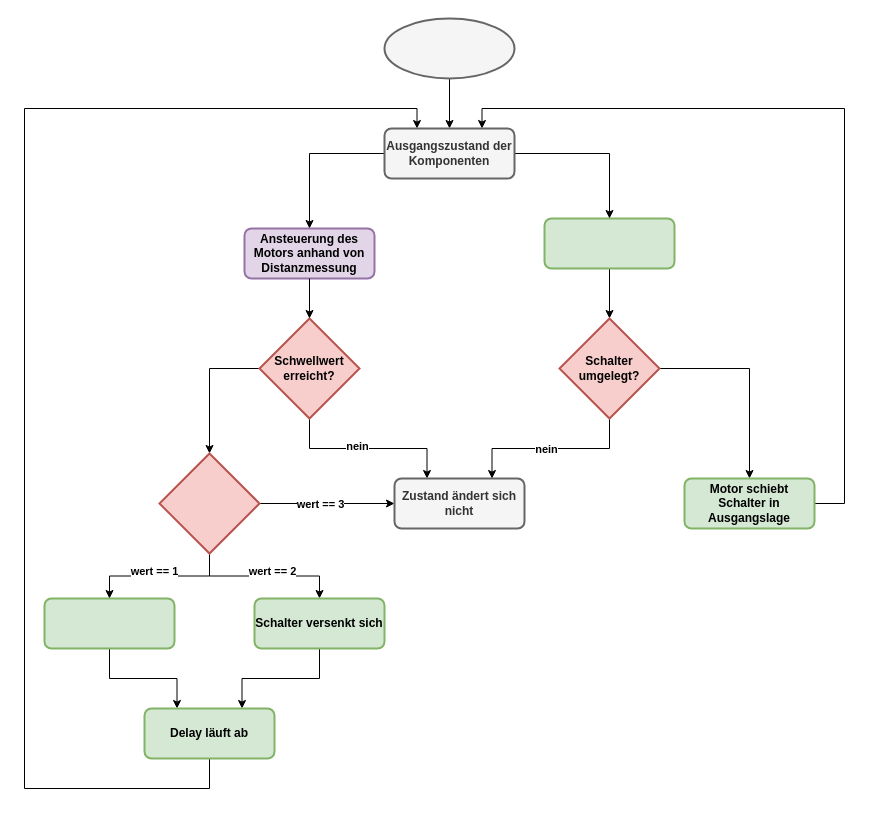
Image size: 870x814. Some labels were removed from this diagram. Here are the shapes that lost their labels. From the top down, the centre of each, then its label:
At (449,48): "Loop".
At (609,243): "Überwachung der Schalterstellung".
At (209,503): "Abfrage Zufallswert".
At (109,623): "Box dreht sich".
